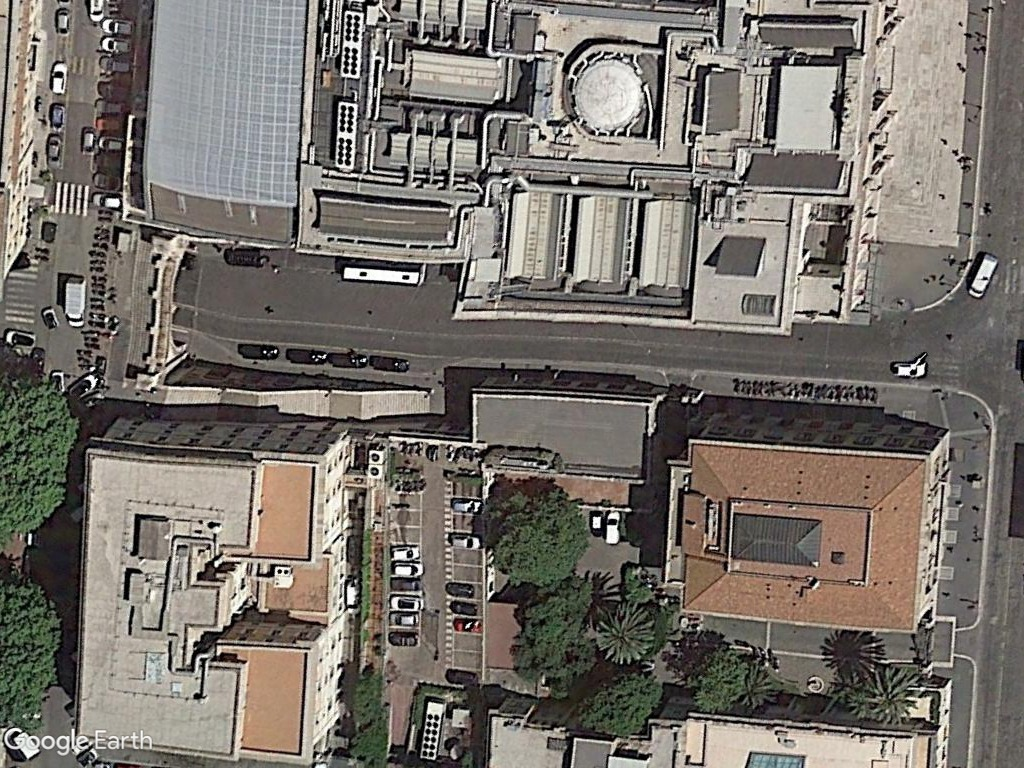bus: (336, 261, 429, 287)
car: (2, 324, 41, 352), (93, 54, 137, 76), (99, 14, 137, 39), (91, 95, 134, 116), (44, 100, 68, 137), (43, 130, 64, 172), (444, 529, 484, 551), (88, 189, 125, 211), (382, 610, 422, 630), (447, 496, 485, 517), (78, 124, 99, 162), (383, 559, 427, 577), (52, 4, 73, 41), (446, 617, 485, 636), (97, 34, 138, 52), (442, 579, 480, 598), (384, 577, 425, 594), (387, 544, 424, 562), (386, 595, 425, 612), (382, 630, 421, 647), (446, 600, 482, 617)
other: (65, 369, 101, 401), (221, 246, 270, 269), (887, 356, 930, 382), (234, 341, 283, 362), (287, 346, 330, 366), (365, 355, 413, 372), (326, 351, 369, 367)
truck: (964, 248, 1000, 302), (63, 270, 88, 332)
van: (602, 508, 625, 550), (47, 58, 69, 98)
